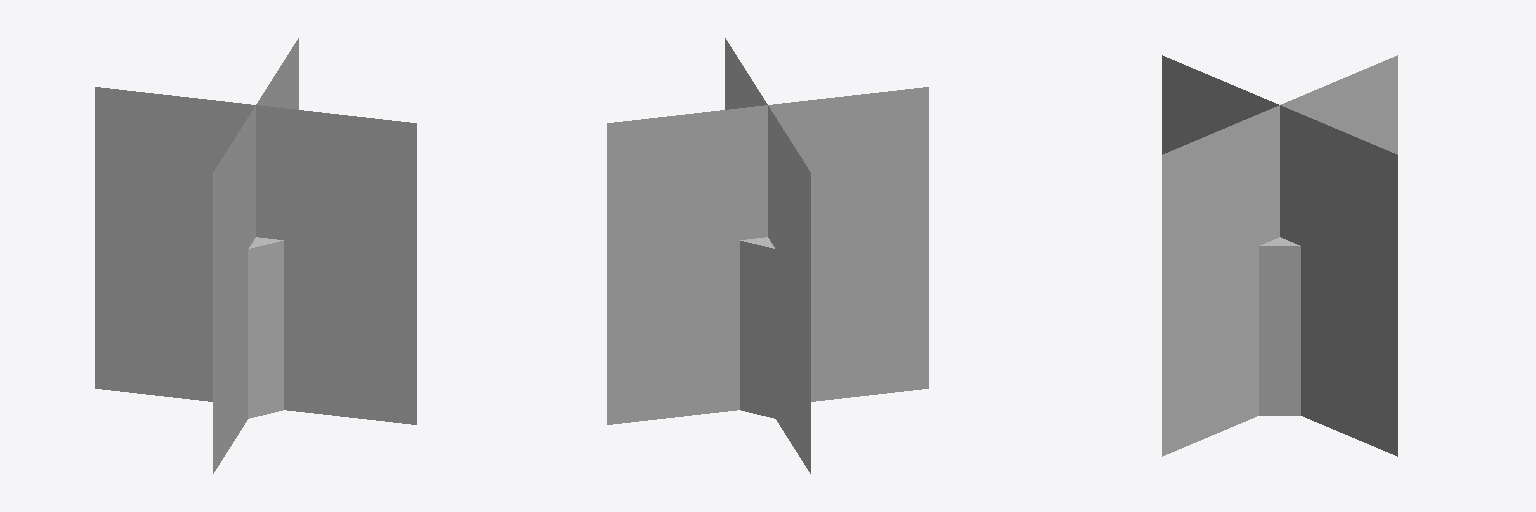
The model's file is torch_floor.obj.
3 renders of one model, left to right at view 1: azimuth 30°, elevation 25°; view 2: azimuth 150°, elevation 25°; view 3: azimuth 270°, elevation 25°, orthographic.
Bounding box in the file's own units: 0.7071 × 1 × 0.7071.